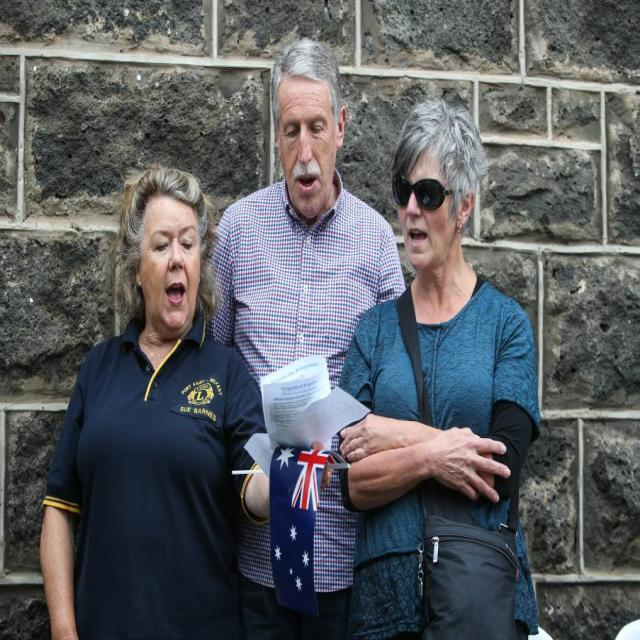body: (37, 160, 334, 640), (193, 28, 412, 639), (331, 91, 548, 639)
